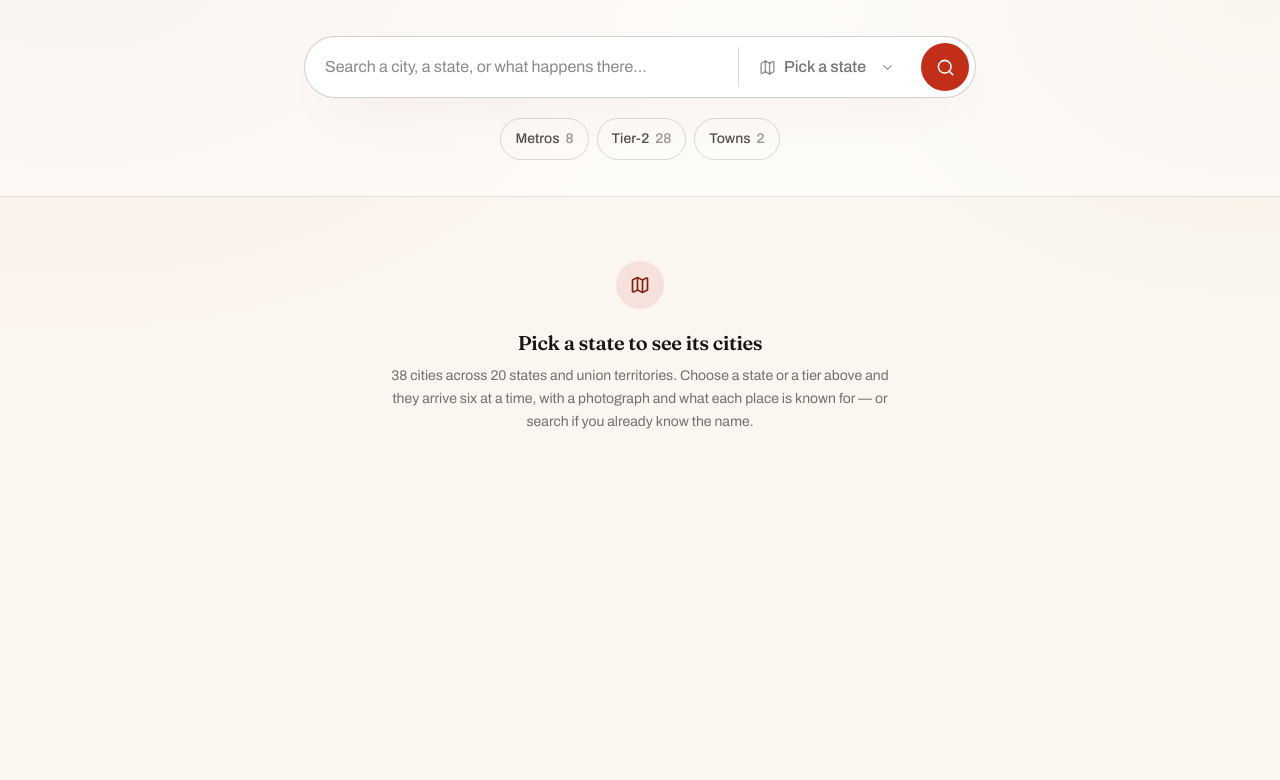
CityExplorer › clears every filter at once, not just the text
The image size is (1280, 780).
Click the dropdown at (827, 67), box [739,37,915,97]
(page scrolled)
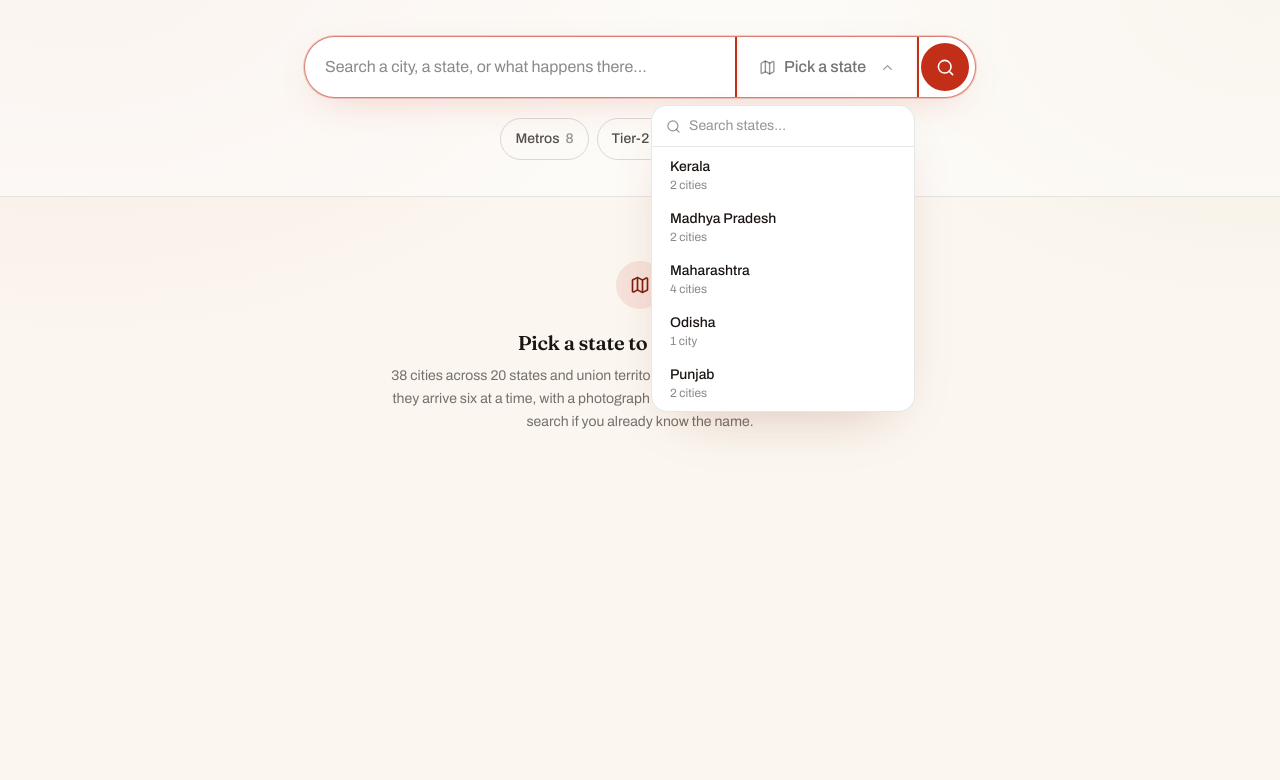
Click the option "Maharashtra 4 cities" at (783, 279), box [658,253,908,305]
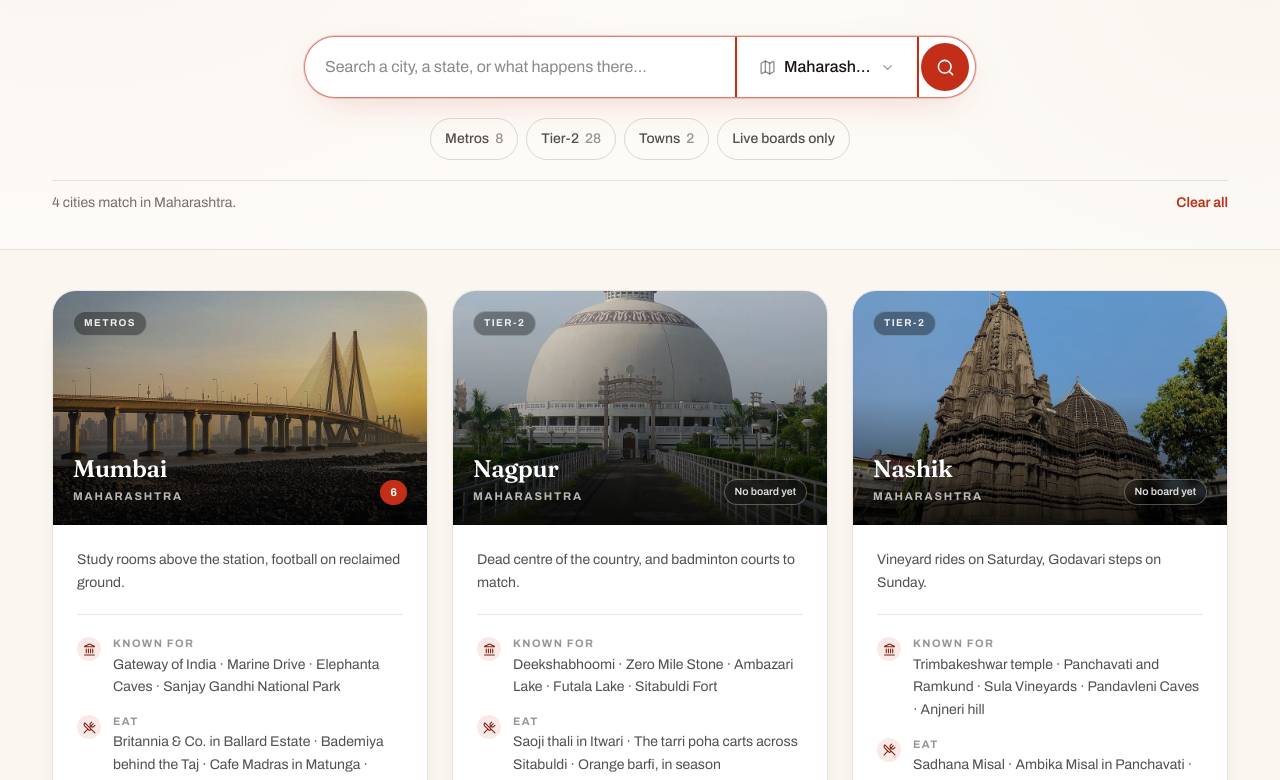
Click the button "Live boards only" at (784, 139), box [717,118,850,160]
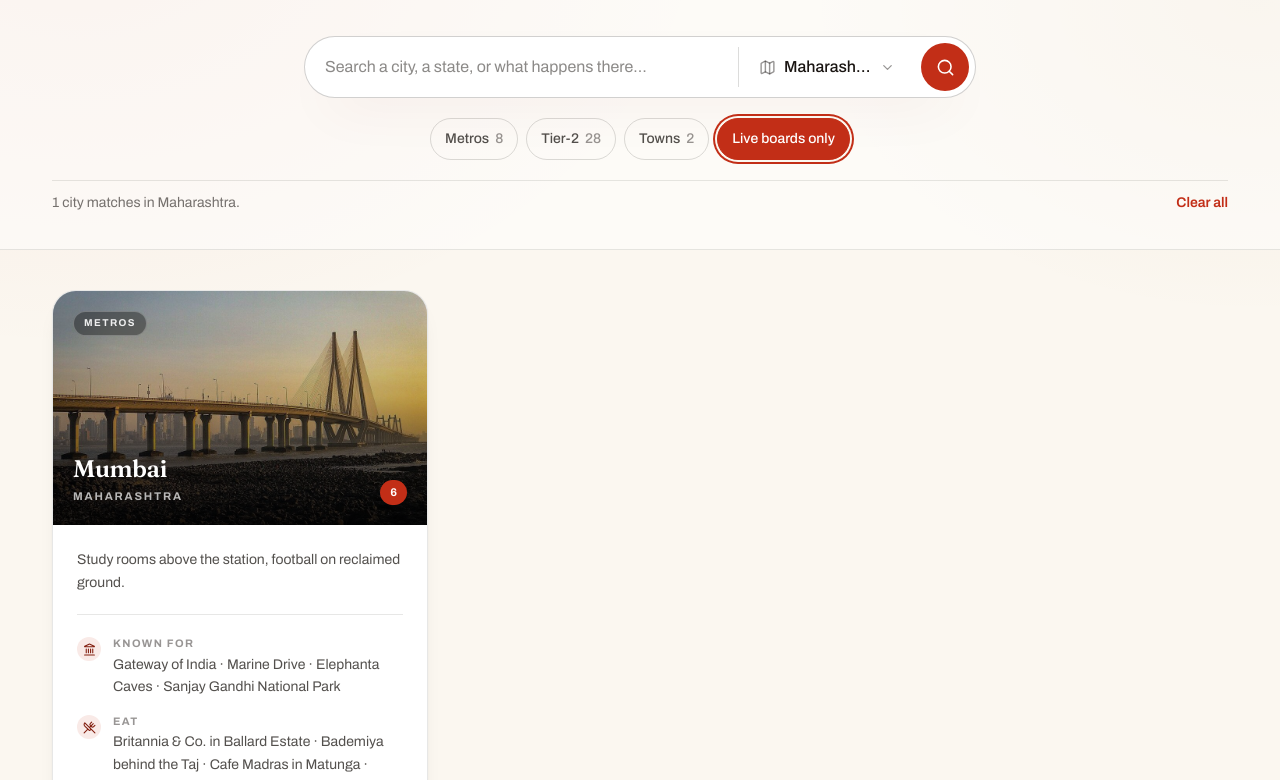
Type "Mumbai" into the search field named "Search cities" at (522, 67), box [305,37,738,97]
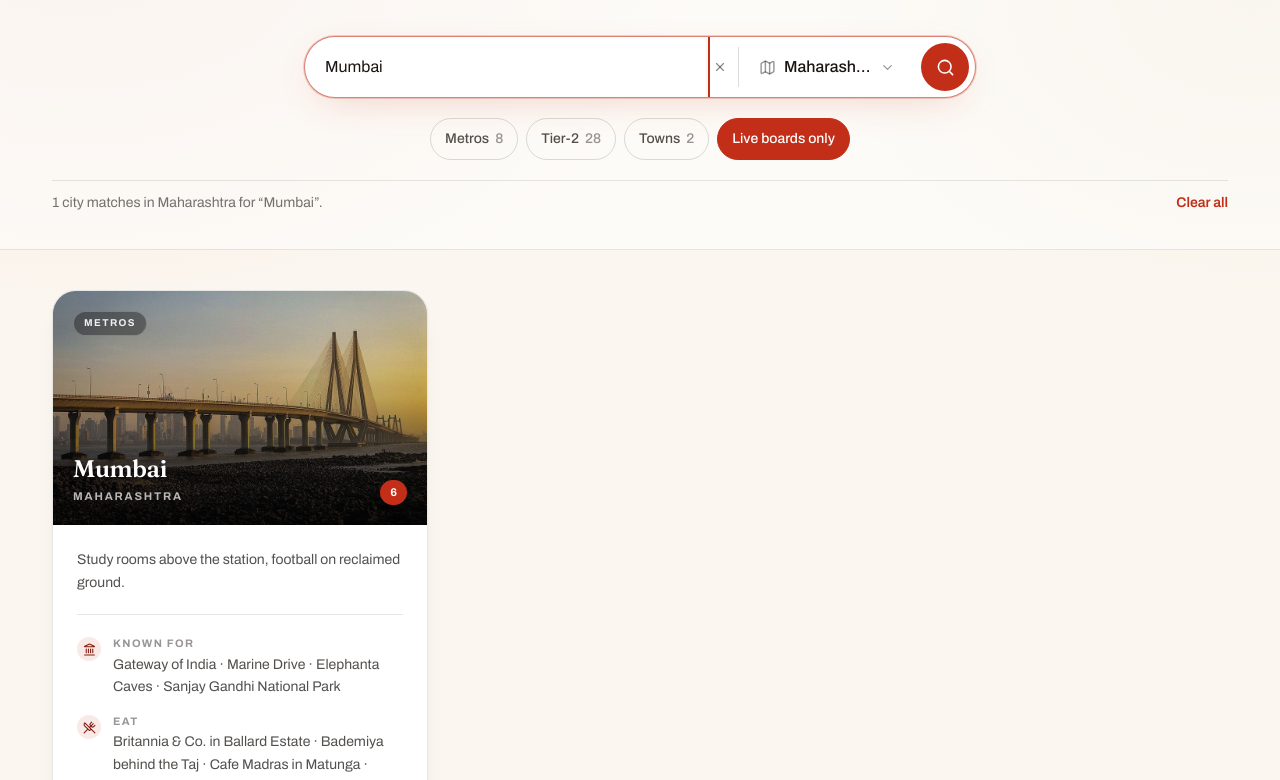
Click the button "Clear all" at (1202, 203), box [1176,193,1228,213]
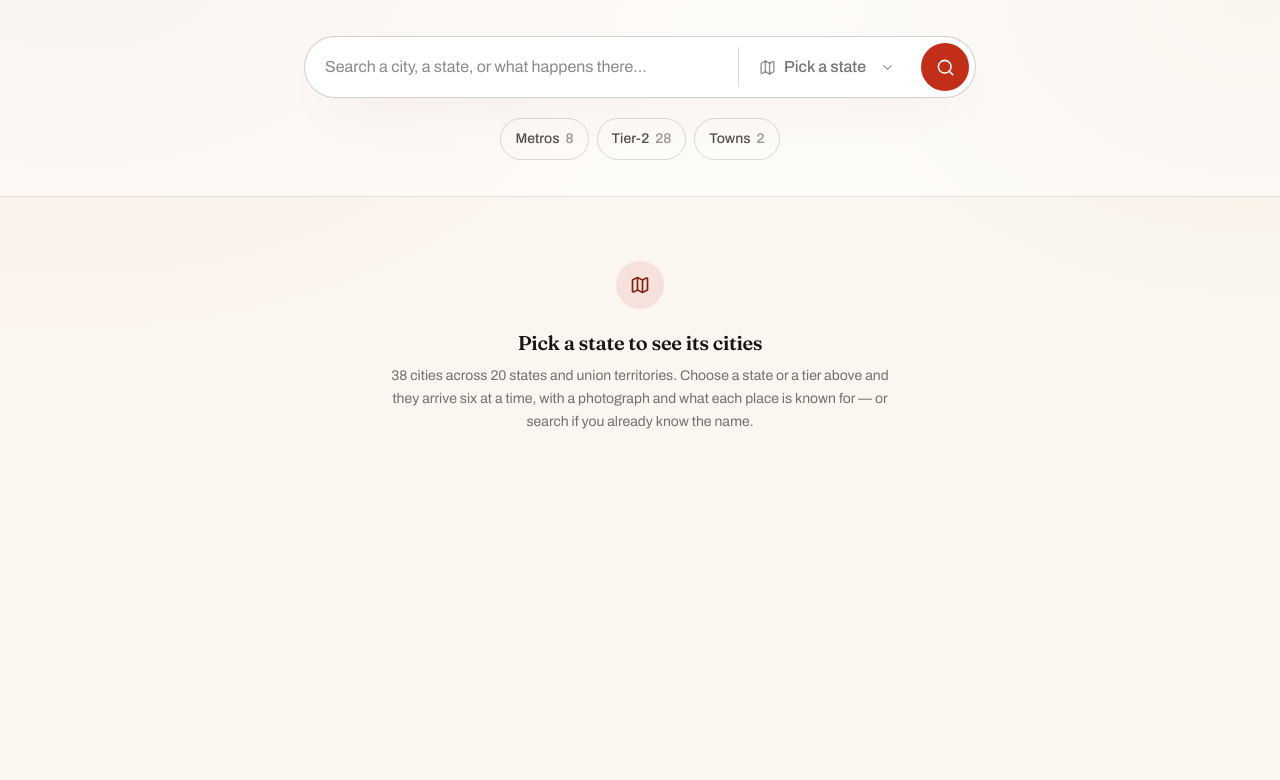
Now the heading "Pick a state to see its cities" is shown, box [518,330,762,355]
